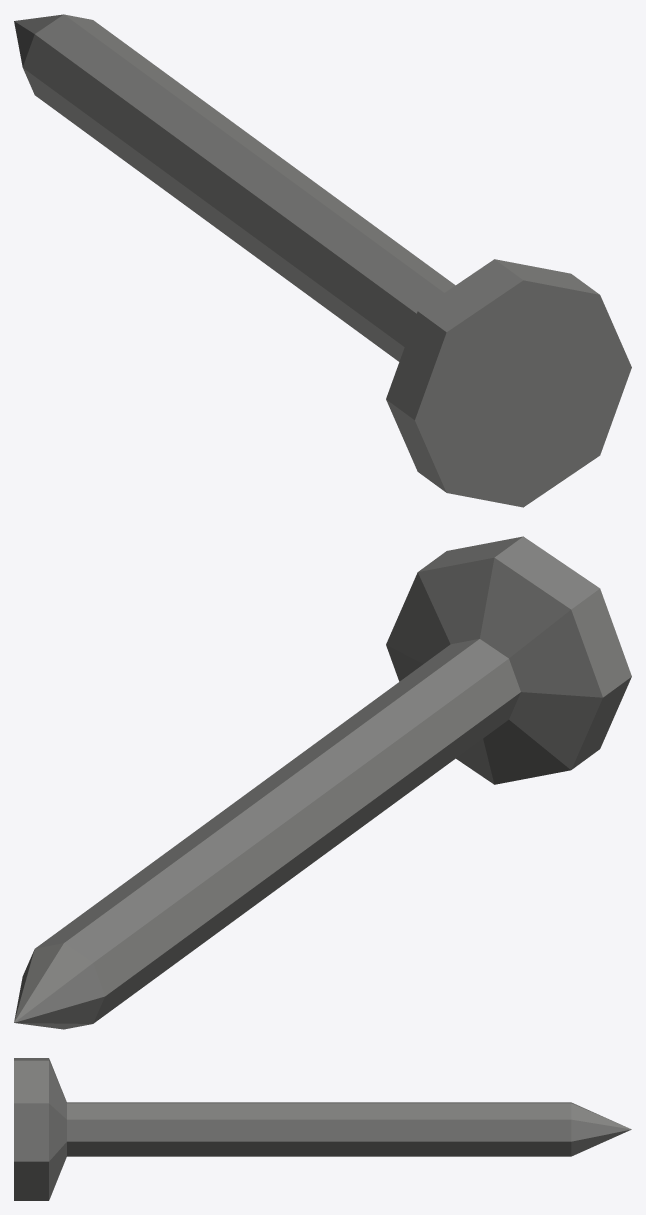
The model's file is nail.obj.
3 views of the same model, one above another, from view 1: azimuth 30°, elevation 25°; view 2: azimuth 150°, elevation 25°; view 3: azimuth 270°, elevation 25° (orthographic). The views are drawn at different scales.
Parts seen in each view (by area): view 1: Cylinder; view 2: Cylinder; view 3: Cylinder.
Part boxes in pixels (x1=…): Cylinder: x1=14, y1=14, x2=631, y2=507; Cylinder: x1=14, y1=536, x2=631, y2=1029; Cylinder: x1=14, y1=1058, x2=631, y2=1200.
Bounding box in the file's own units: 2 × 2 × 8.13.
